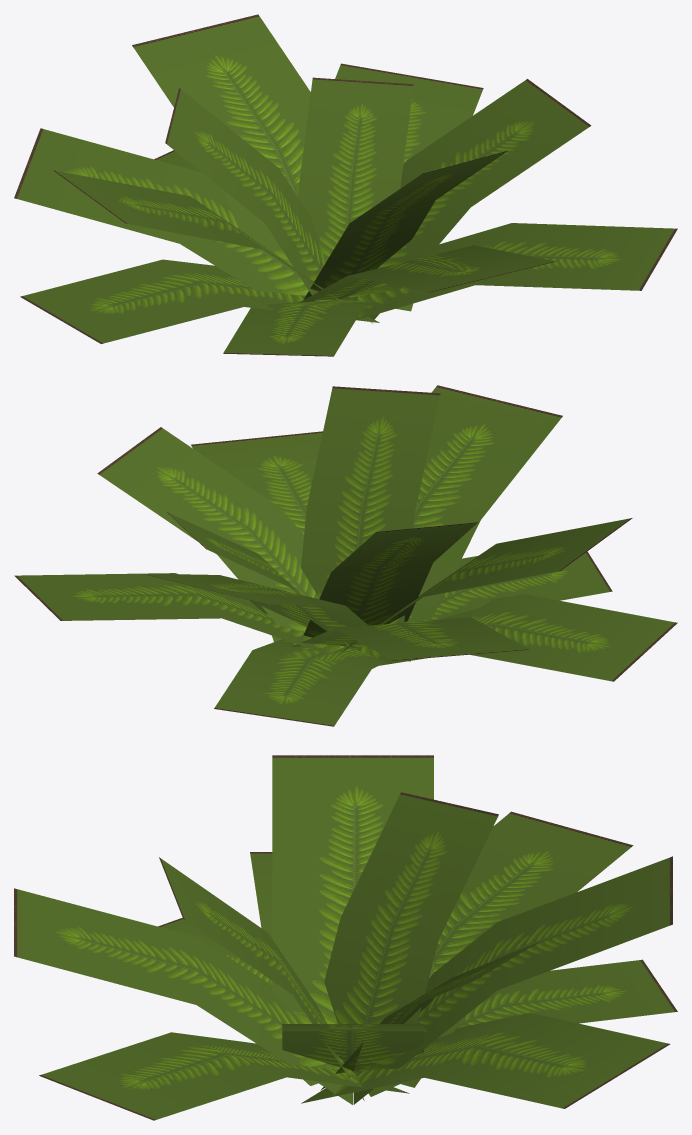
The model's file is Bush_2.fbx.
3 views of the same model, one above another, from view 1: azimuth 30°, elevation 25°; view 2: azimuth 150°, elevation 25°; view 3: azimuth 270°, elevation 25° (orthographic). The views are drawn at different scales.
Visible parts, largest first — view 1: polySurface1582; view 2: polySurface1582; view 3: polySurface1582.
Part boxes in pixels (left/top/right/bottom): polySurface1582: left=14, top=14, right=677, bottom=356; polySurface1582: left=14, top=385, right=677, bottom=726; polySurface1582: left=14, top=755, right=677, bottom=1120.
Size of the model in its own units: 3.43 by 1.19 by 3.29.
